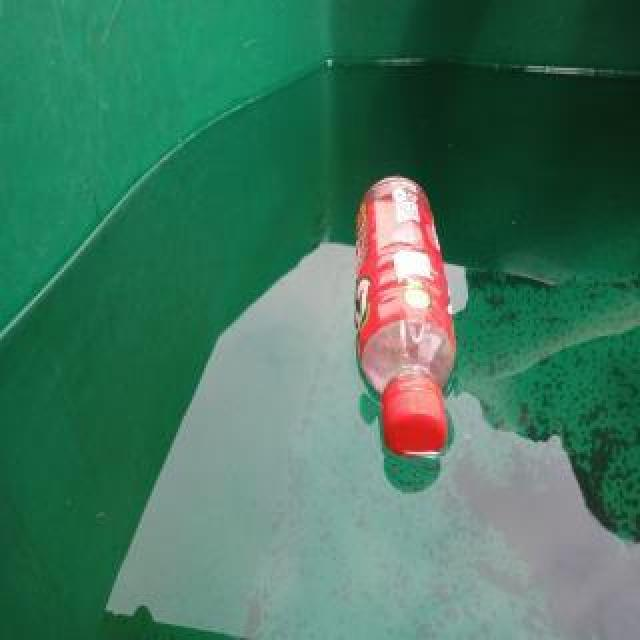bottle: (353, 174, 455, 456)
